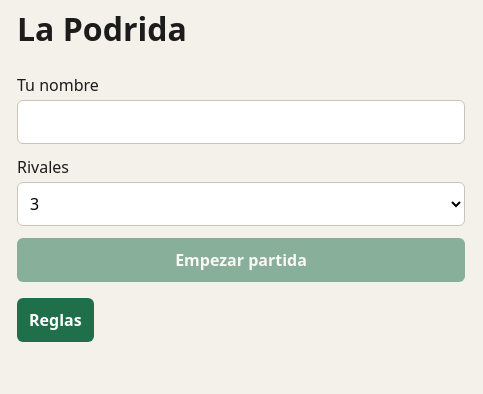
Scenario: NewGamePage failures (VC-902) › create 400 shows the invalid-data message
The width and height of the screenshot is (483, 394).
Type "Ana" into the field labelled "Tu nombre" at (241, 122), box x1=17 y1=100 x2=465 y2=144
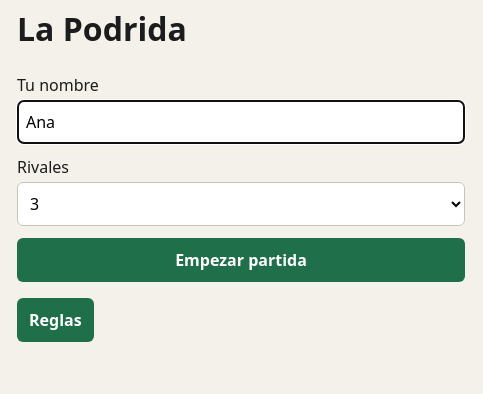
Click the button "Empezar partida" at (241, 260), box x1=17 y1=238 x2=465 y2=282
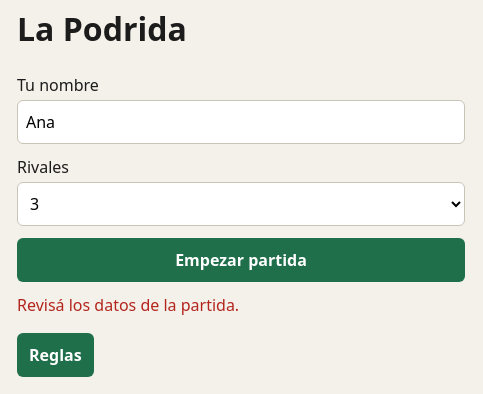
Result: the button "Empezar partida" is enabled at x1=17 y1=238 x2=465 y2=282
Result: the text "Revisá los datos de la partida." is shown at x1=17 y1=294 x2=239 y2=316
